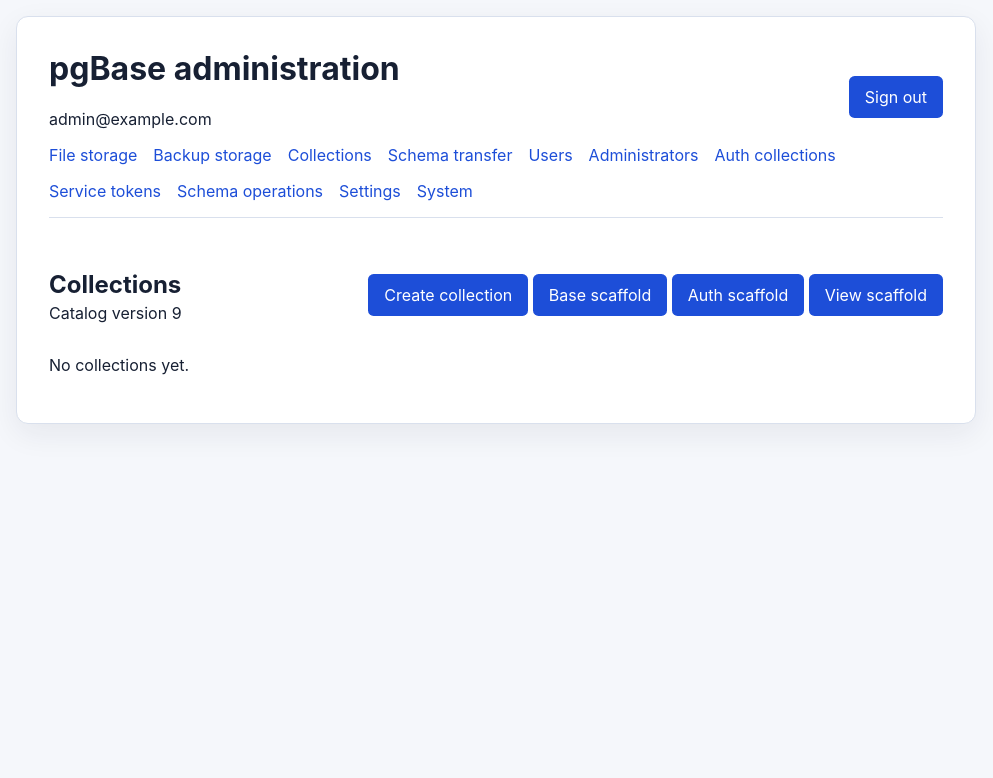
administration shell › moves between the collection list and the read-only system page
Expected: the heading "Collections" is shown, [49,270,182,299]
Click the link "System".
click(445, 191)  # box [417,181,473,201]
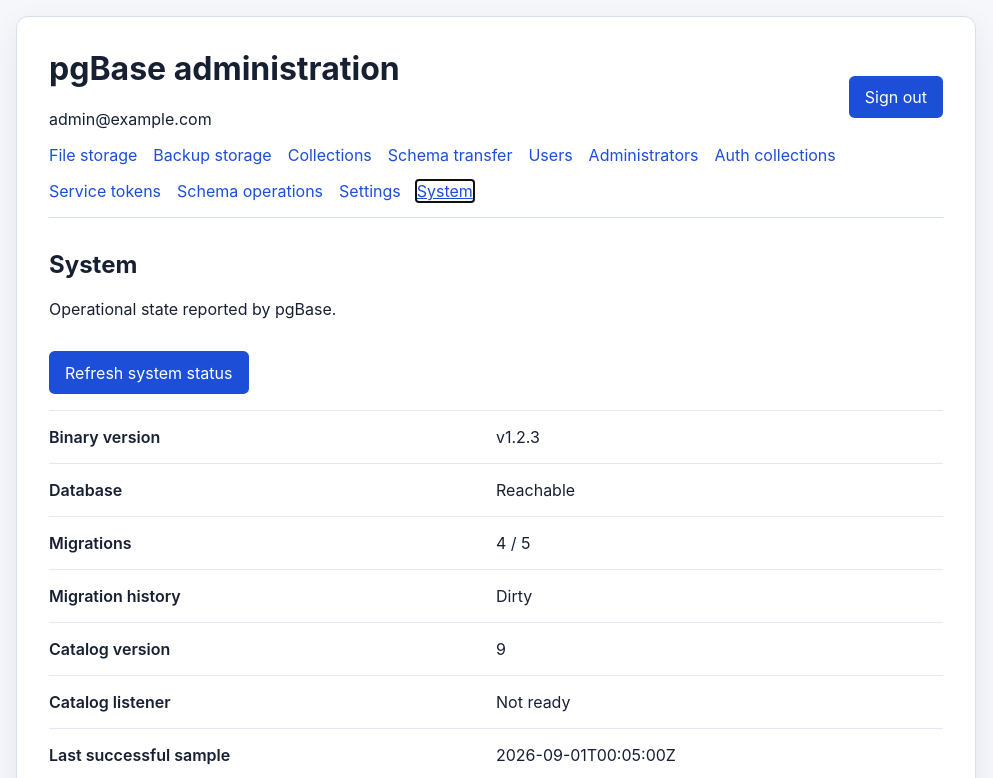
Expected: the heading "System" is shown, [49,250,137,279]
